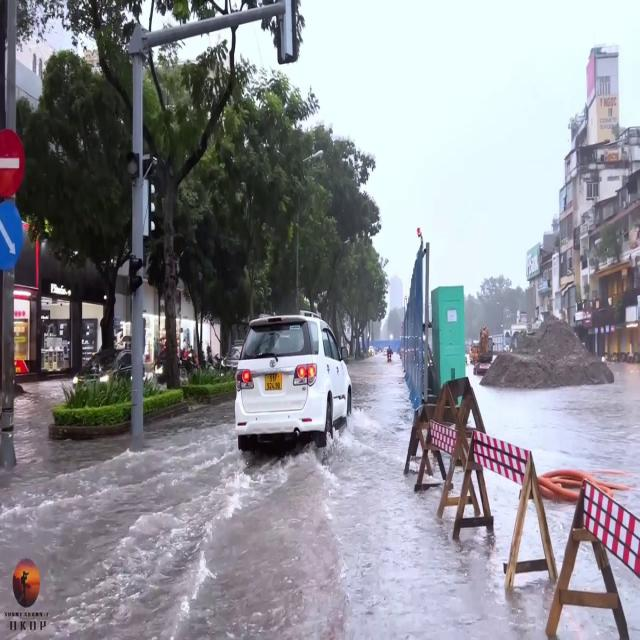bien_vang: (264, 374, 282, 390)
